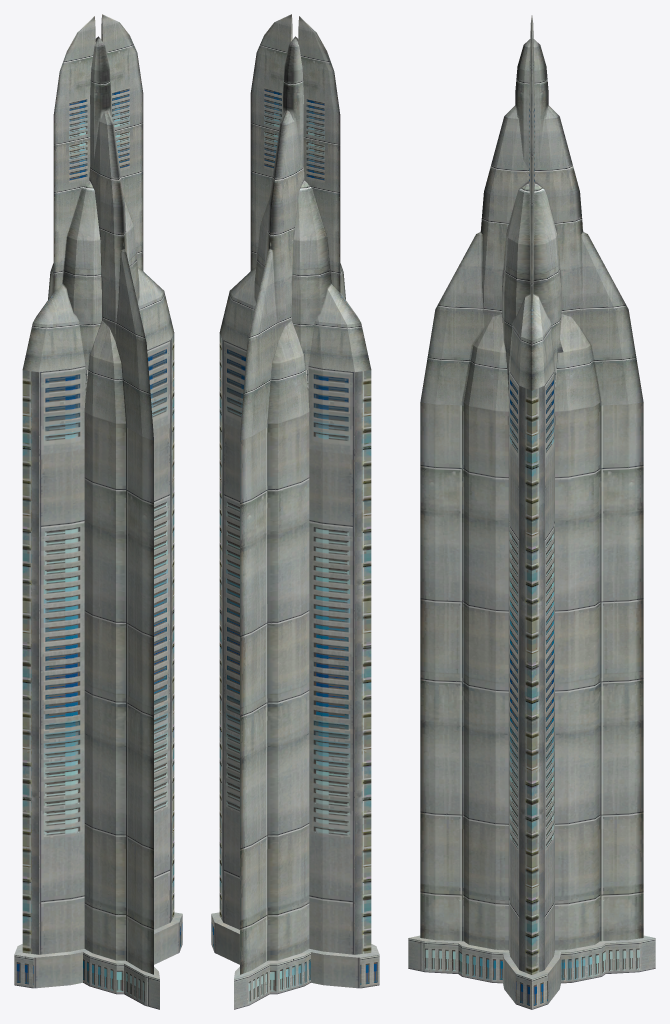
File: eaw_corBuild4.glb
The picture shows the model from 3 angles, left to right: view 1: azimuth 30°, elevation 25°; view 2: azimuth 150°, elevation 25°; view 3: azimuth 270°, elevation 25°; orthographic projection.
Visible parts, largest first — view 1: W_Urban_CorBuild_C_ALT0_0; view 2: W_Urban_CorBuild_C_ALT0_0; view 3: W_Urban_CorBuild_C_ALT0_0.
Part boxes in pixels (bbox=[...]): W_Urban_CorBuild_C_ALT0_0: bbox=[14, 14, 182, 1009]; W_Urban_CorBuild_C_ALT0_0: bbox=[211, 14, 379, 1009]; W_Urban_CorBuild_C_ALT0_0: bbox=[408, 15, 655, 1009].
Bounding box in the file's own units: 9.96 × 53.72 × 12.64.
Materials: 1 (1 with a texture image).
